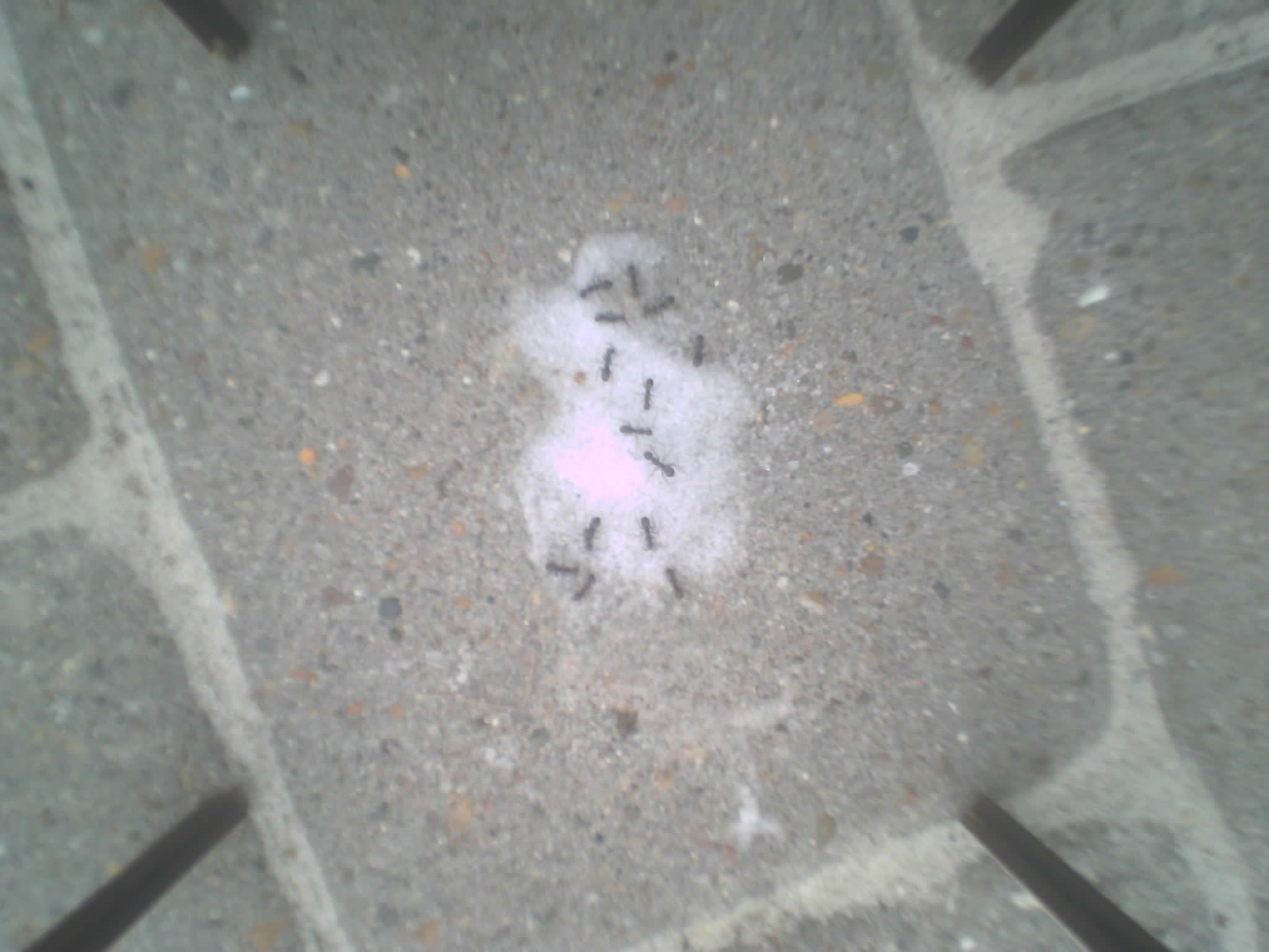Ant: (643, 450, 677, 477), (572, 575, 598, 603), (580, 280, 614, 301), (583, 517, 603, 552), (626, 263, 644, 301), (665, 567, 685, 601), (644, 295, 676, 316), (639, 516, 658, 551), (600, 349, 617, 384), (546, 559, 580, 576), (593, 310, 625, 326), (620, 424, 654, 439), (693, 335, 708, 368), (643, 378, 657, 412)
